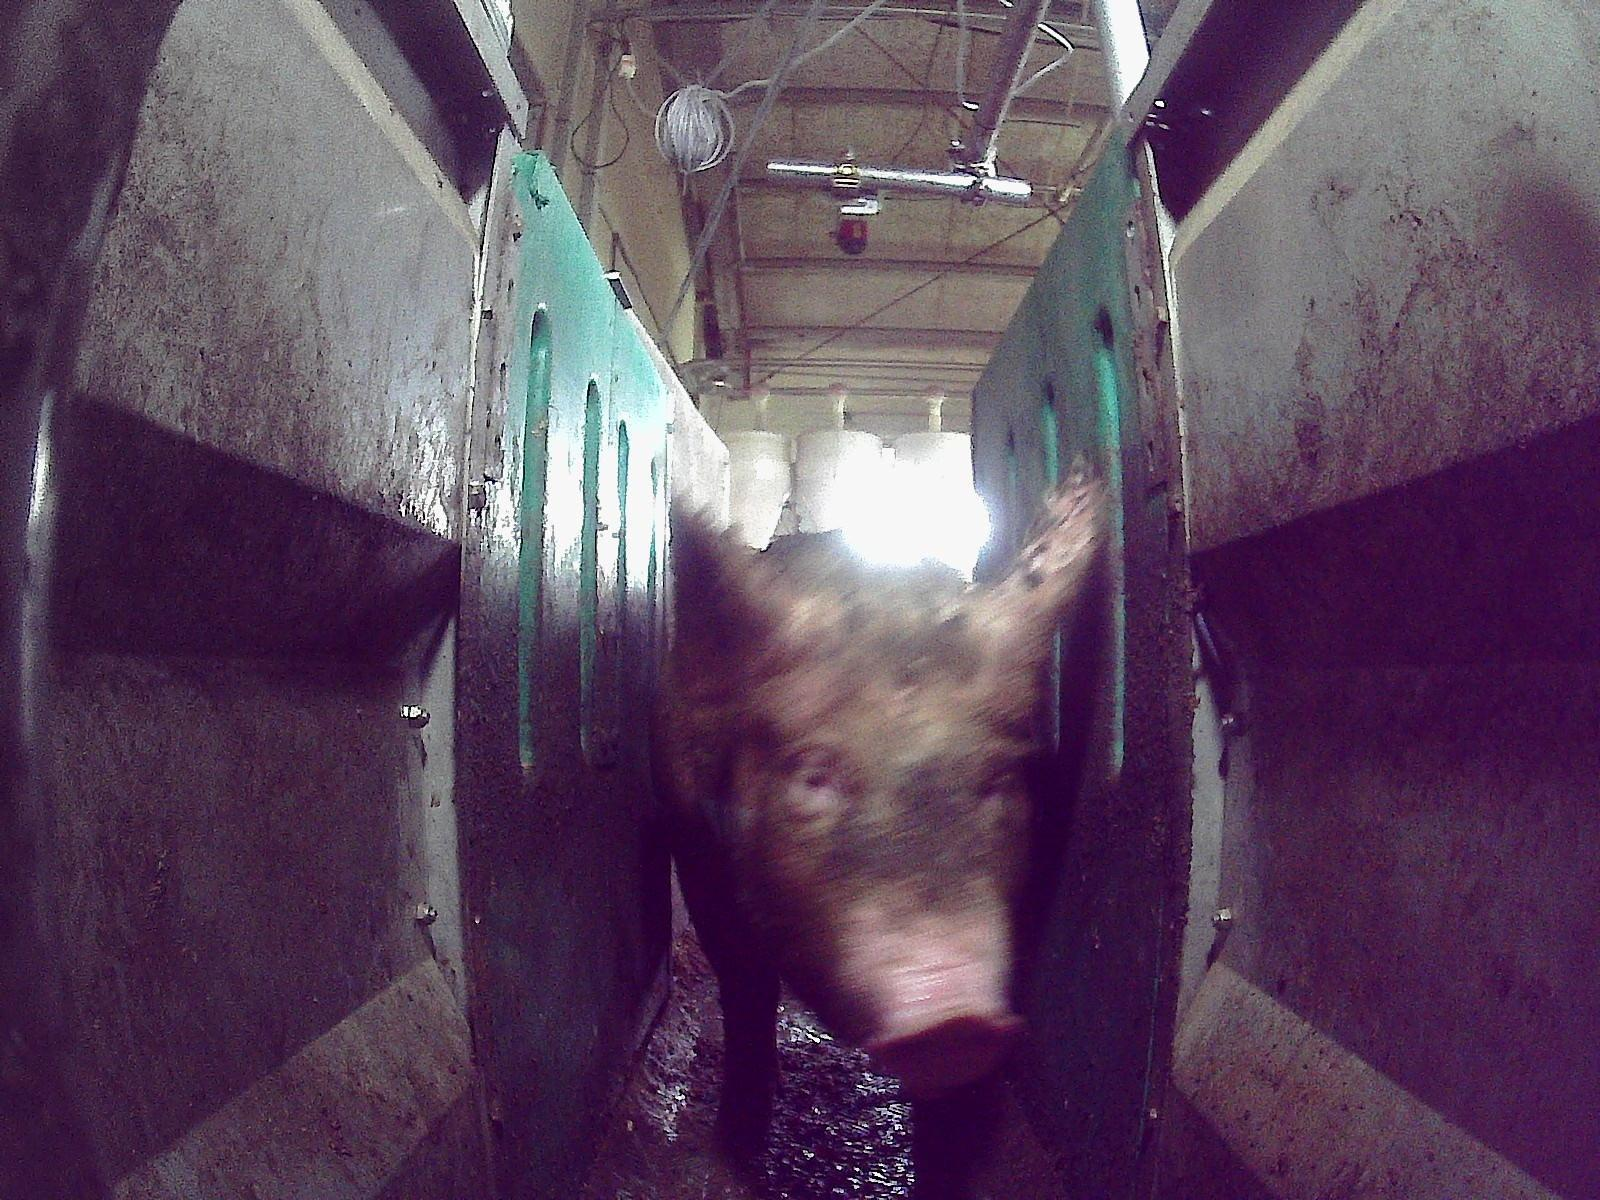Face: (733, 617, 1032, 1098)
